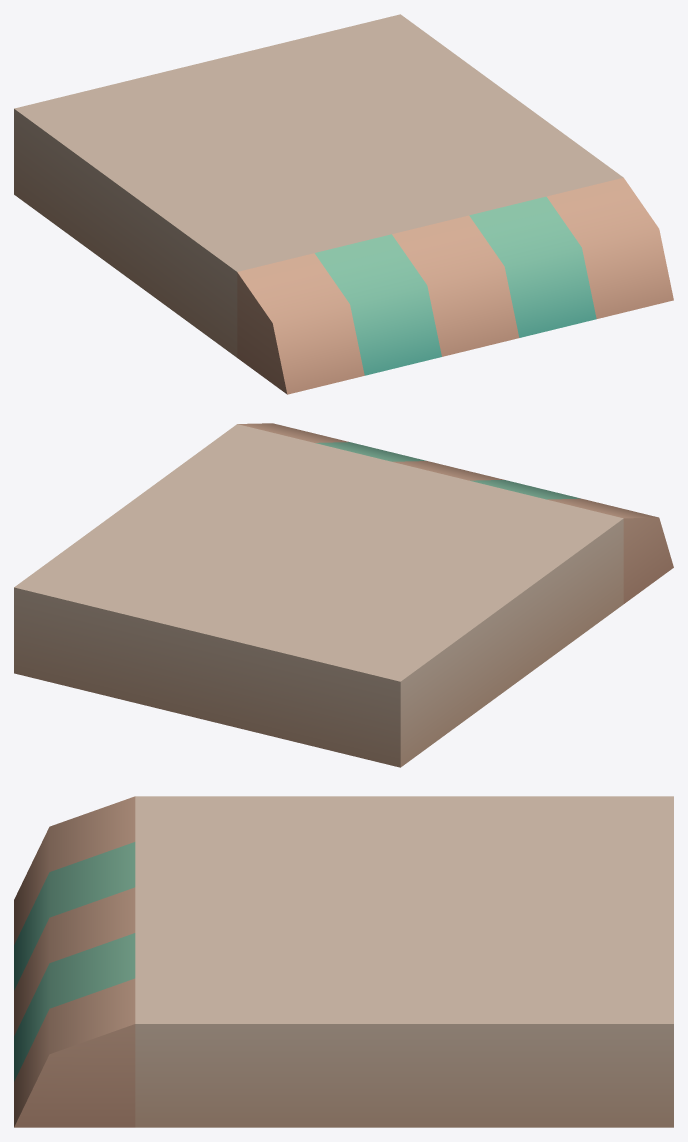
Rendered from roof-flat-awning-c.glb.
3 views of the same model, one above another, from view 1: azimuth 30°, elevation 25°; view 2: azimuth 150°, elevation 25°; view 3: azimuth 270°, elevation 25° (orthographic). The views are drawn at different scales.
Visible parts, largest first — view 1: roof-flat-awning-c; view 2: roof-flat-awning-c; view 3: roof-flat-awning-c.
Part boxes in pixels (box(x1,y1,x2,y2)): roof-flat-awning-c: box(14, 14, 673, 394); roof-flat-awning-c: box(14, 423, 673, 767); roof-flat-awning-c: box(14, 796, 673, 1127).
Size of the model in its own units: 1 by 0.2125 by 1.23.
